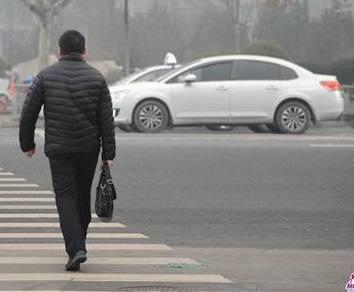person: (18, 27, 118, 274)
